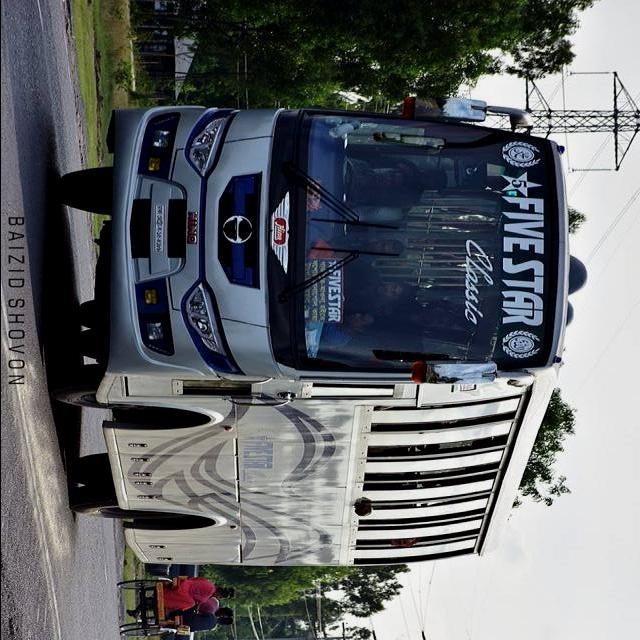bus: (48, 95, 590, 568)
